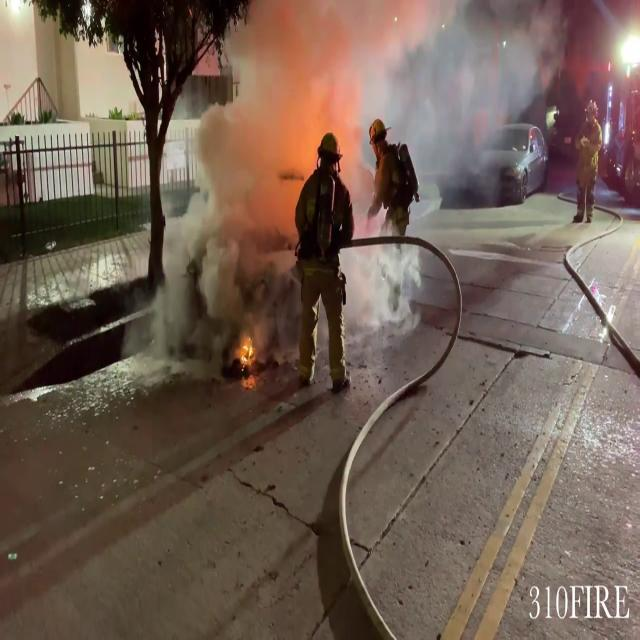Fire: (231, 326, 263, 380)
Smoke: (172, 1, 364, 336), (328, 0, 541, 198)
